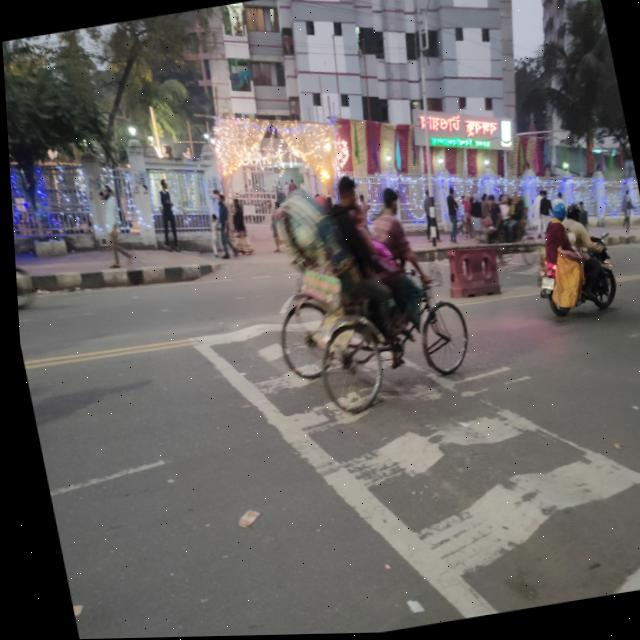rikshaw: (251, 148, 509, 456)
